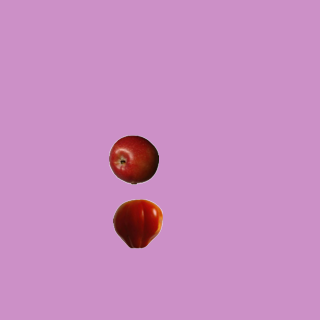Apple Braeburn: (108, 134, 158, 184)
Tomato 1: (112, 198, 162, 248)
